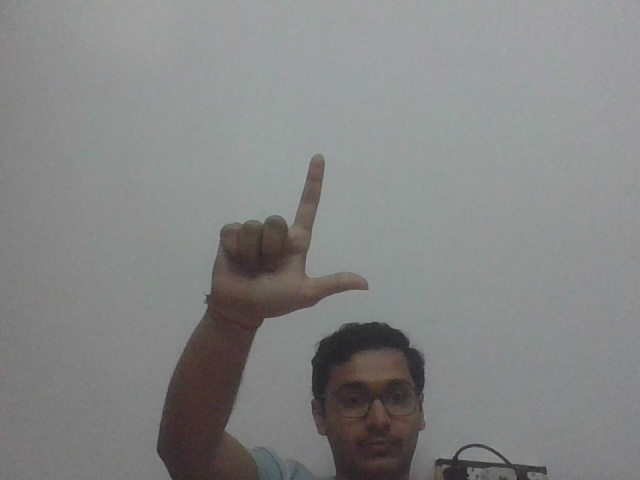L: (207, 144, 372, 312)
